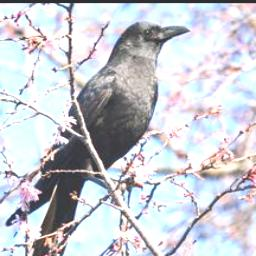Crow: (4, 18, 191, 256)
